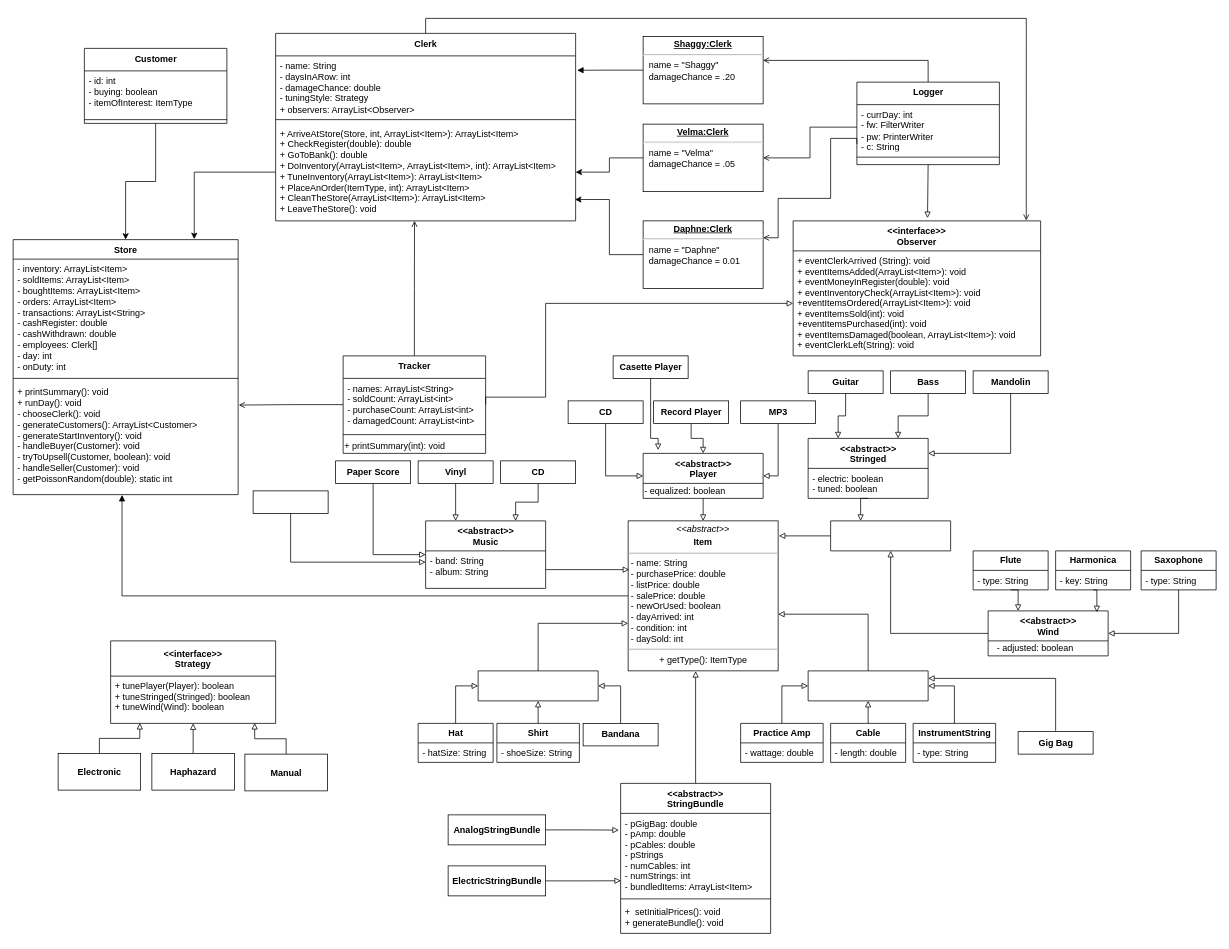
Image size: 1229x949. Some labels were removed from this diagram. Here are the shapes that lost their labels. From the top down, the centre of each, then its label:
At [290,501]: "Casette".
At [890,535]: "<<abstract>> Instrument".
At [537,685]: "<<abstract>> Clothing".
At [867,685]: "<<abstract>> Accessory".
